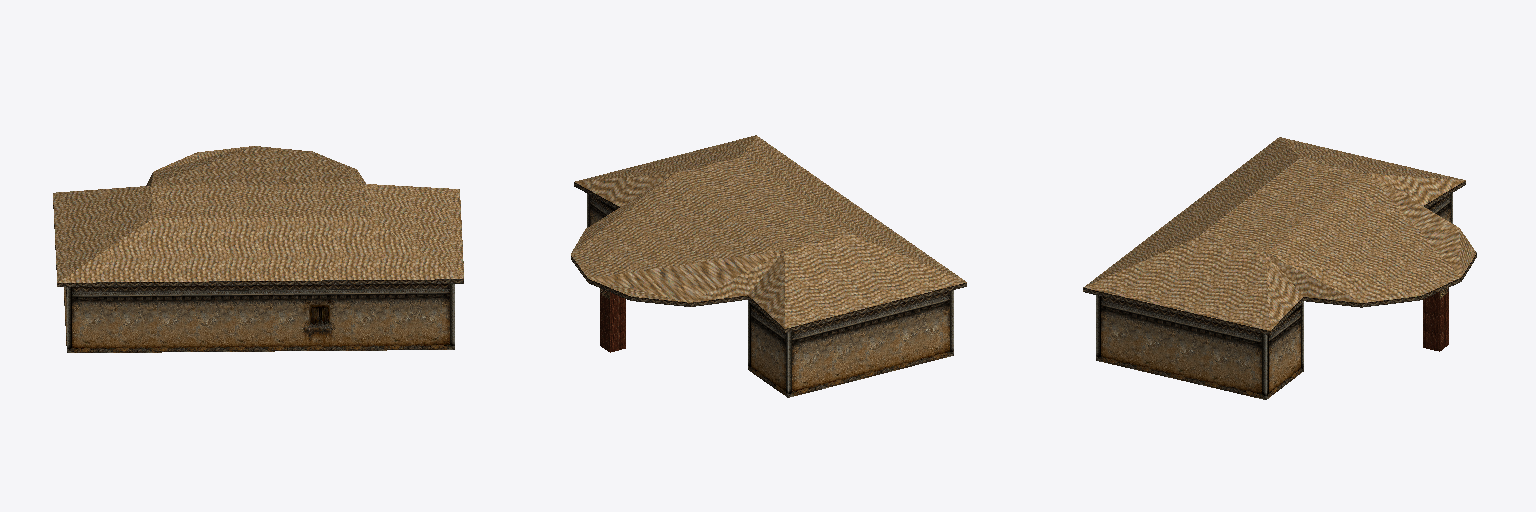
The picture shows the model from 3 angles: view 1: azimuth 30°, elevation 25°; view 2: azimuth 150°, elevation 25°; view 3: azimuth 270°, elevation 25°; orthographic projection.
Parts seen in each view (by area): view 1: blacksmith; view 2: blacksmith; view 3: blacksmith.
Boxes of the visible parts, x1=… form: blacksmith: x1=53, y1=146, x2=463, y2=352; blacksmith: x1=571, y1=135, x2=966, y2=397; blacksmith: x1=1083, y1=137, x2=1476, y2=399.
Size of the model in its own units: 15.17 by 3.84 by 13.
Materials: 11 (11 with a texture image).